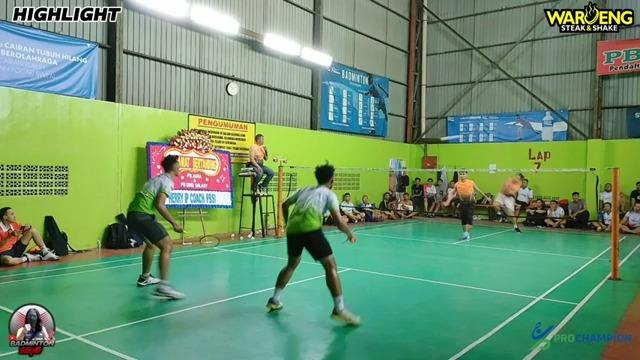Shuttlecock: (440, 132, 466, 144)
